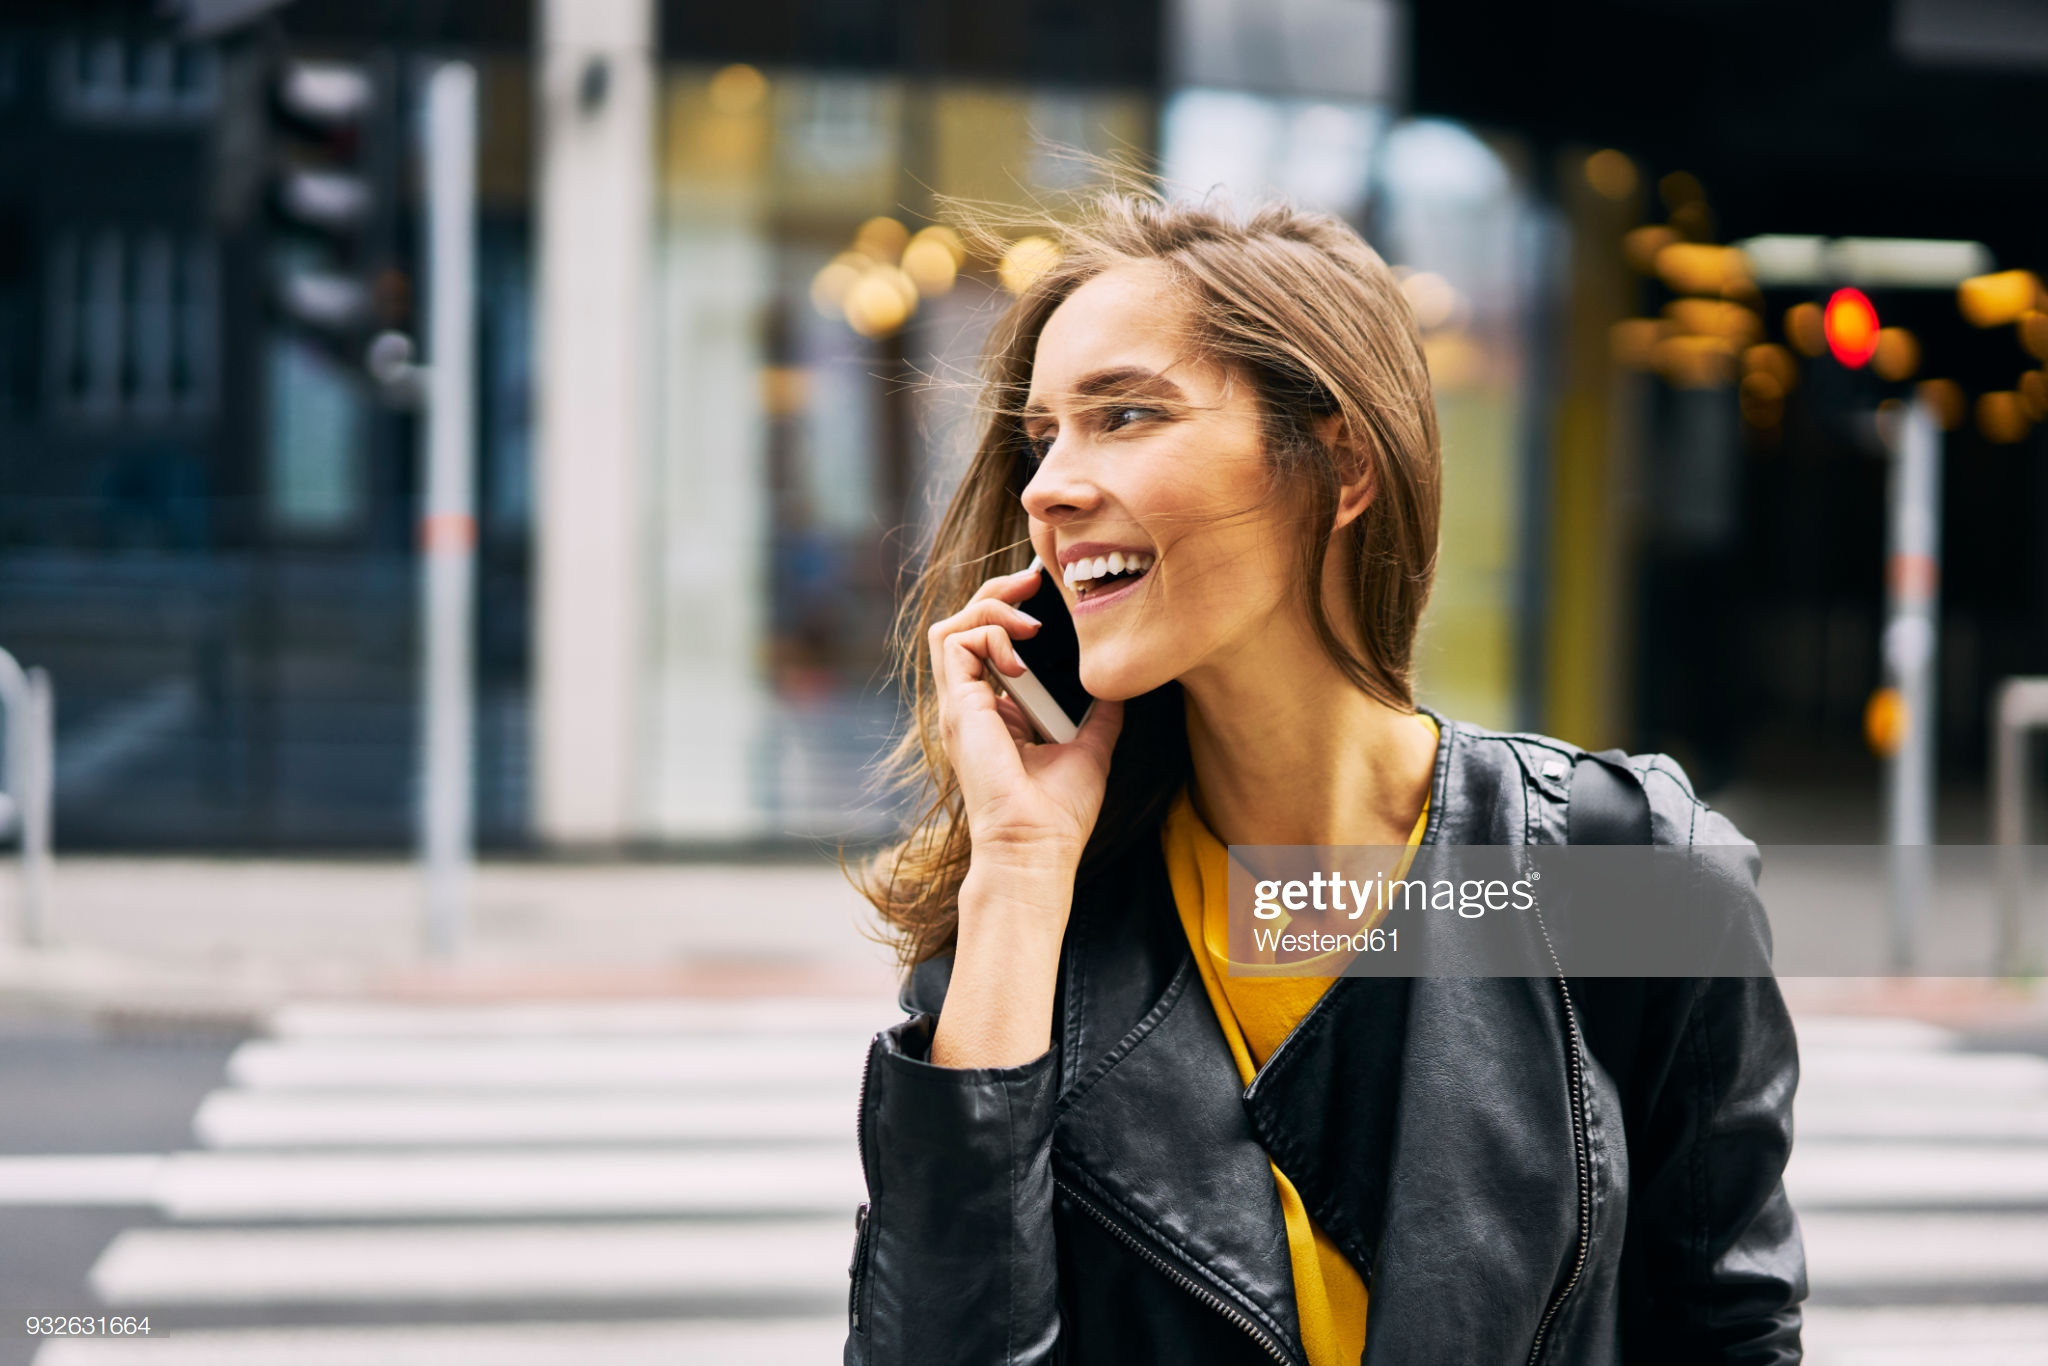phone: (962, 497, 1115, 765)
talk: (917, 354, 1274, 854)
